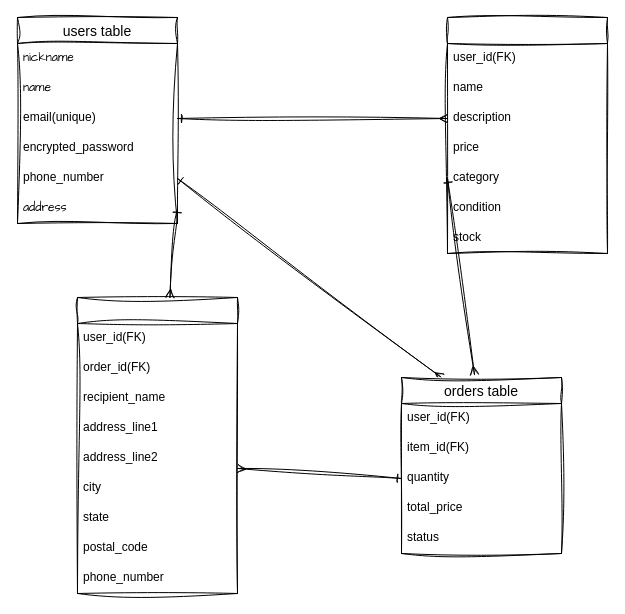
The diagram is 625 pixels wide and 614 high, and some of its shapes have lost their labels. The shapes that lost their labels are listed below. From the top down, each one's box as (x1, y1, x2, y2) in pixels, then its label:
(446, 16, 608, 254): items table
(76, 296, 238, 594): shipping_add table
